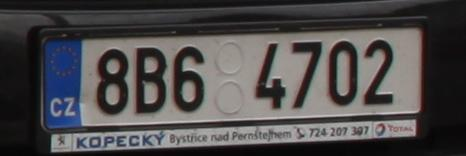0: (330, 40, 357, 105)
2: (365, 39, 393, 104)
4: (255, 41, 285, 108)
6: (174, 46, 203, 112)
7: (293, 41, 322, 107)
8: (97, 49, 128, 115)
B: (136, 47, 167, 113)
